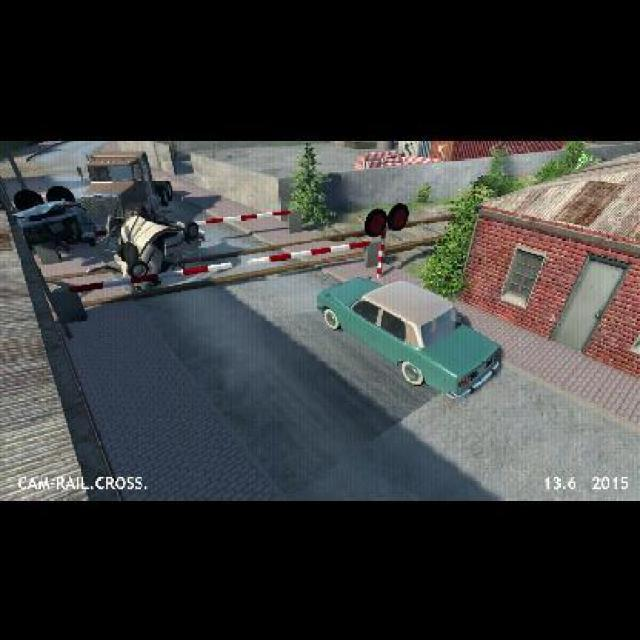accident: (7, 146, 208, 288)
